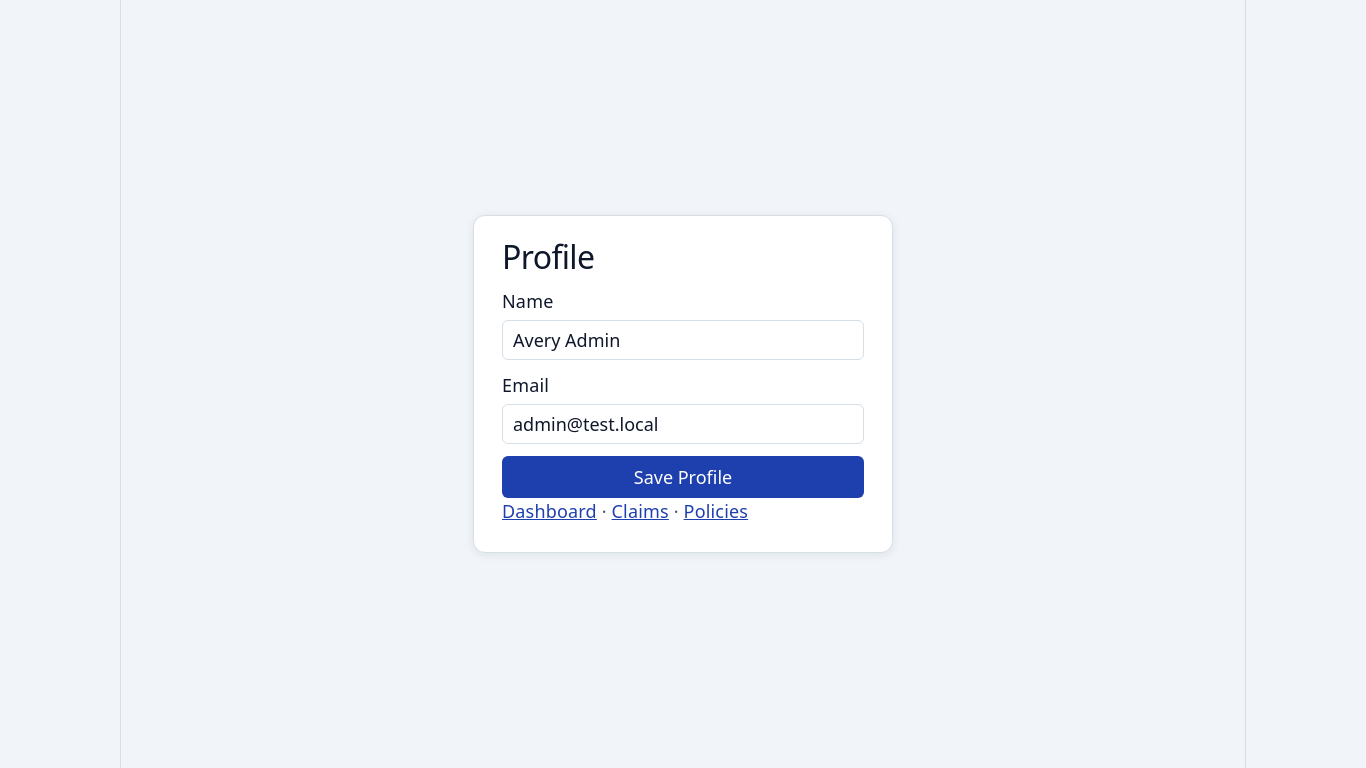
Test: ProfilePage › shows validation error when email format is invalid
Replace the text in the field labelled "Email" with "invalid@domain" at (683, 424), box [502,404,864,444]
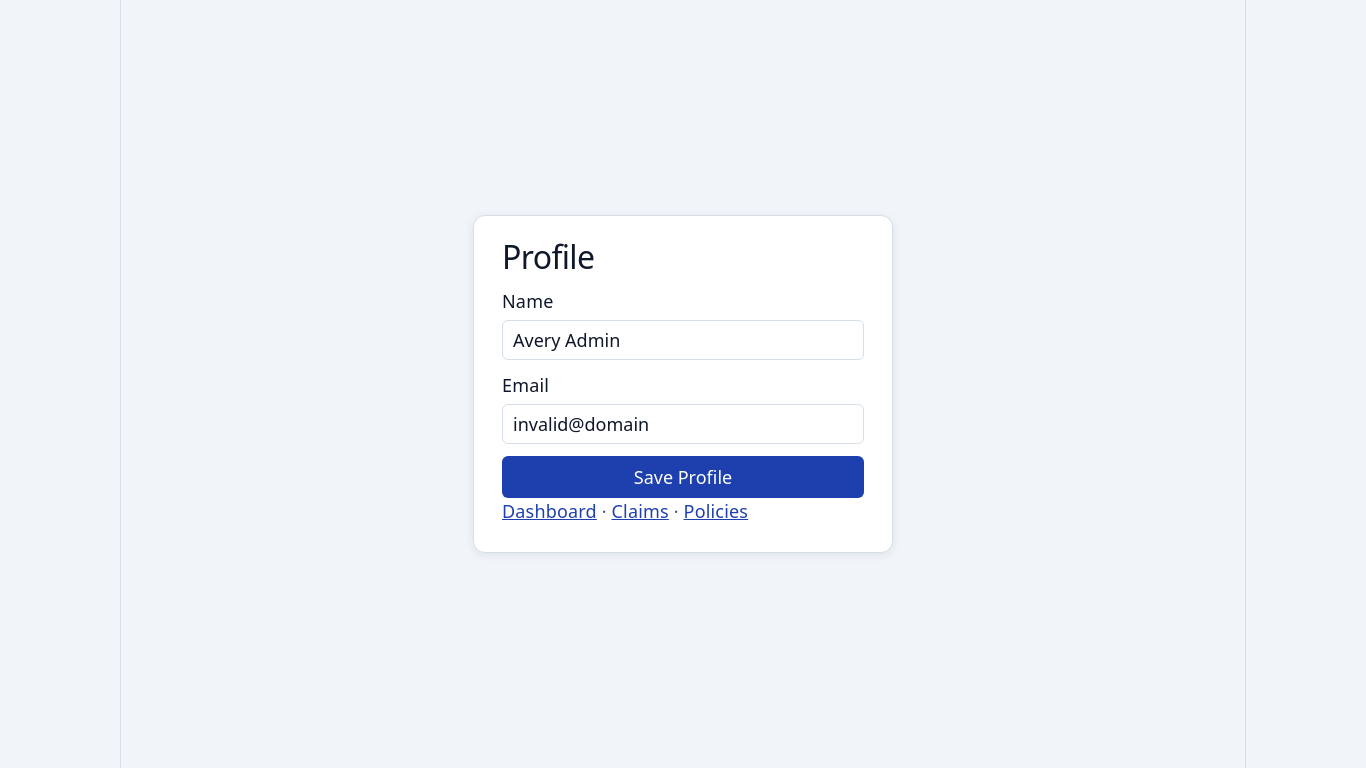
Submit the form from the button "Save Profile", box [502,456,864,498]
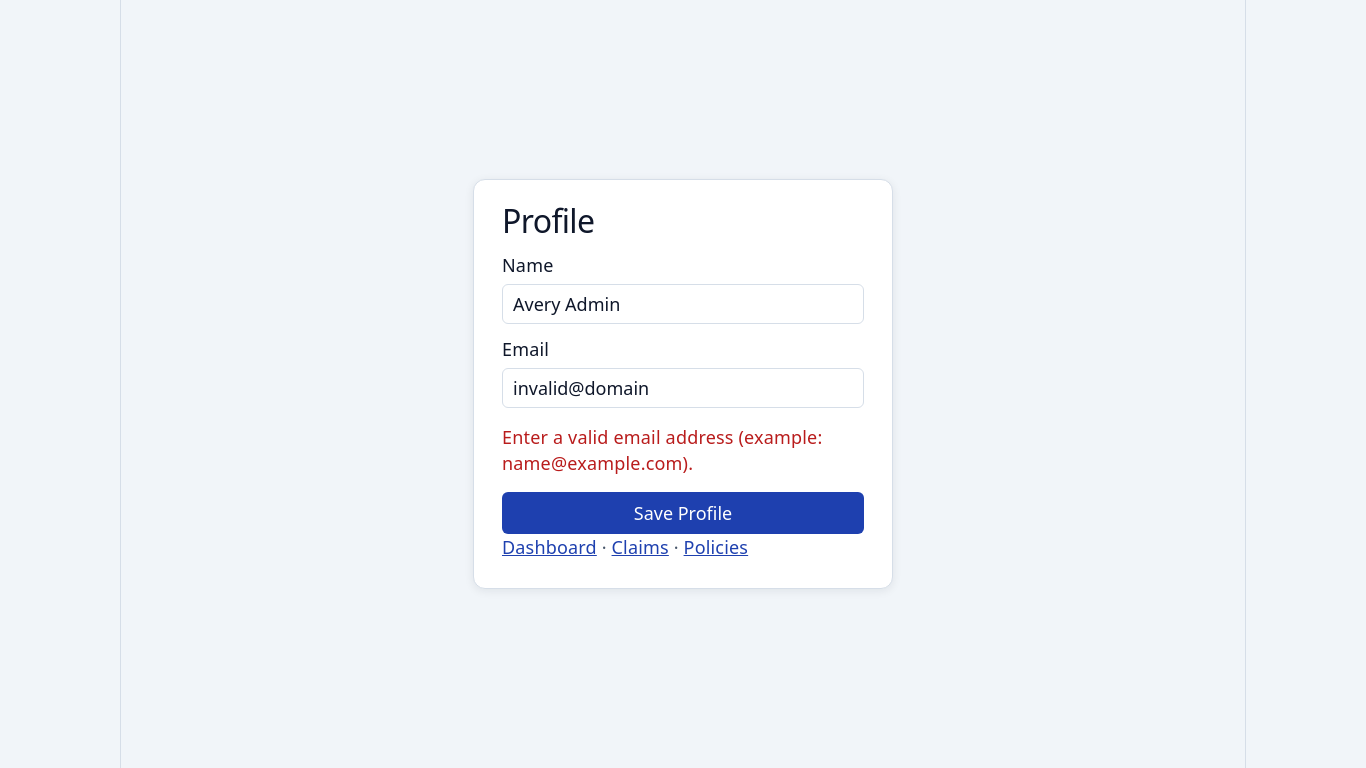
Check: the text "Enter a valid email address (example: name@example.com)." is shown, box [502,424,864,476]
